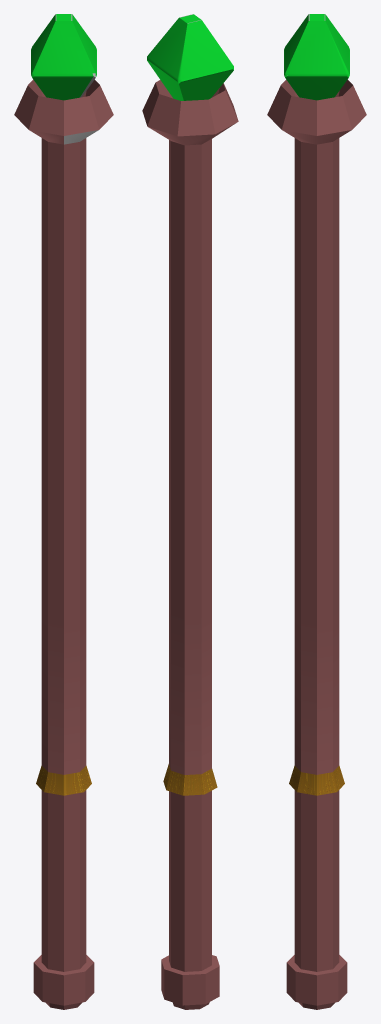
File: magic-wand-by-khiem012156-BTWBUNaGUj.glb
3 views of the same model, side by side, from view 1: azimuth 90°, elevation 25°; view 2: azimuth 210°, elevation 25°; view 3: azimuth 270°, elevation 25° (orthographic).
Parts seen in each view (by area): view 1: Pyramid; view 2: Pyramid; view 3: Pyramid.
Part boxes in pixels (x1,y1,x2,y2): Pyramid: (14, 14, 113, 1009); Pyramid: (142, 14, 238, 1009); Pyramid: (267, 14, 366, 1009).
Bounding box in the file's own units: 0.9437 × 10.27 × 0.9437.
Materials: 5 (1 with a texture image).
